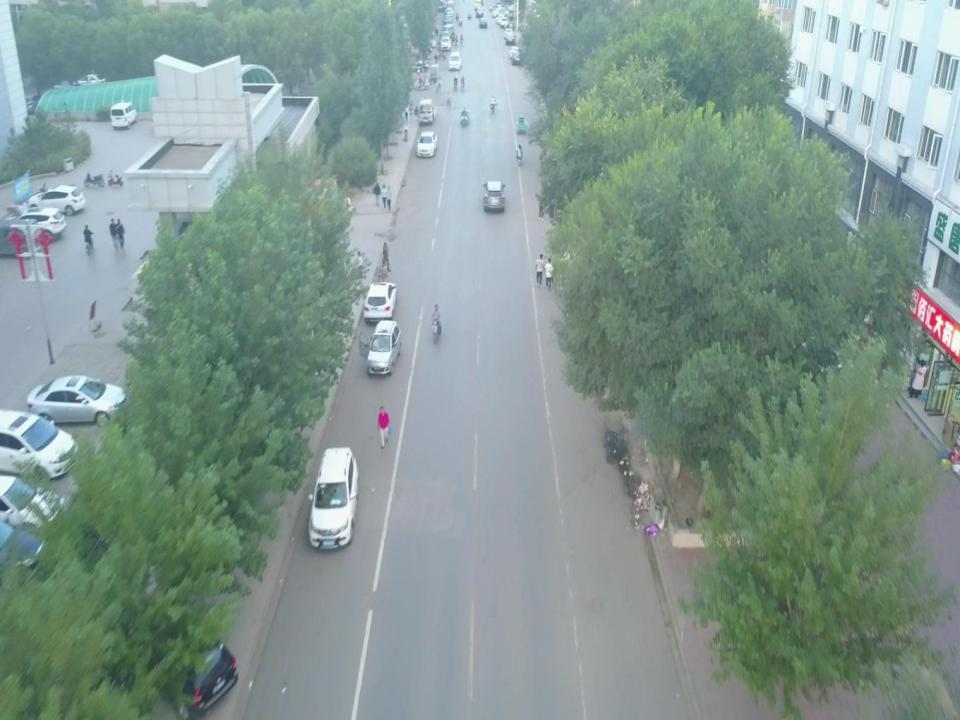car: (126, 586, 240, 714), (304, 444, 361, 550), (23, 374, 132, 428), (0, 408, 81, 480), (752, 332, 844, 389), (0, 471, 73, 542), (0, 470, 72, 541), (0, 513, 60, 587), (8, 204, 66, 242), (0, 216, 45, 260), (26, 186, 85, 216), (363, 280, 399, 322), (479, 178, 507, 214), (416, 129, 440, 158)
van: (356, 320, 402, 376), (108, 99, 137, 131)
